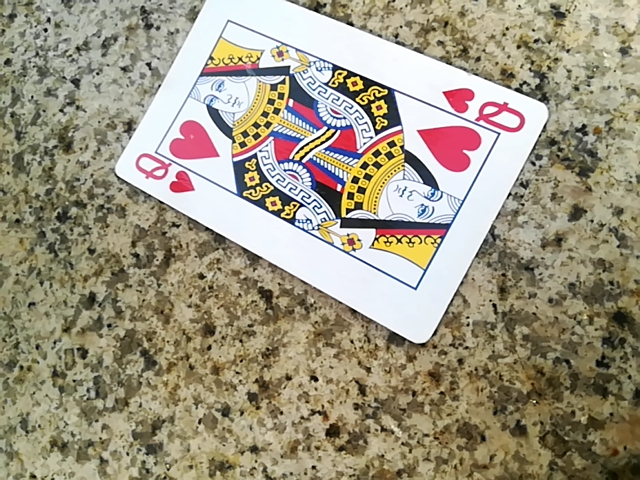hx q: (110, 0, 551, 343)
